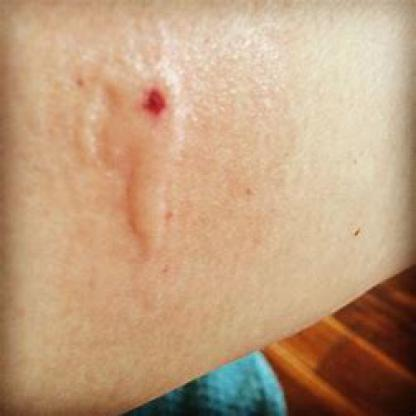Wasp: (74, 48, 192, 264)
